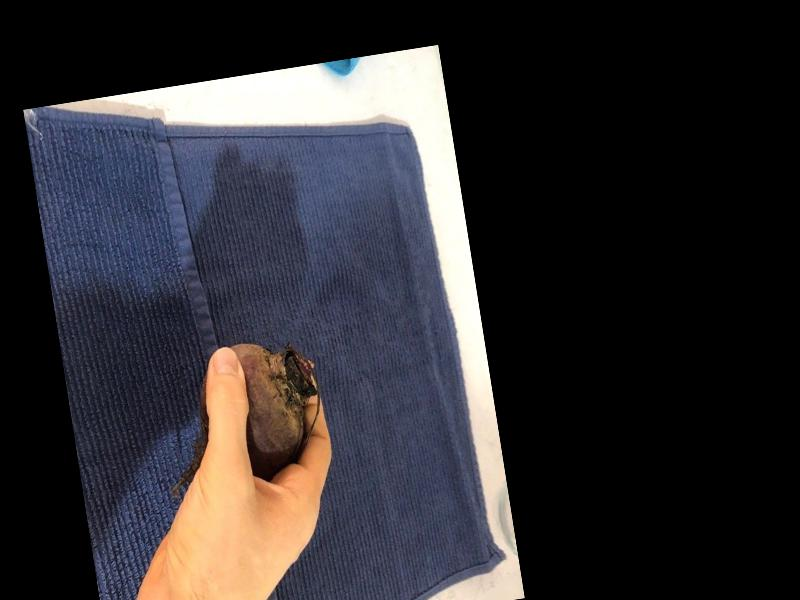Beet: (148, 332, 329, 492)
